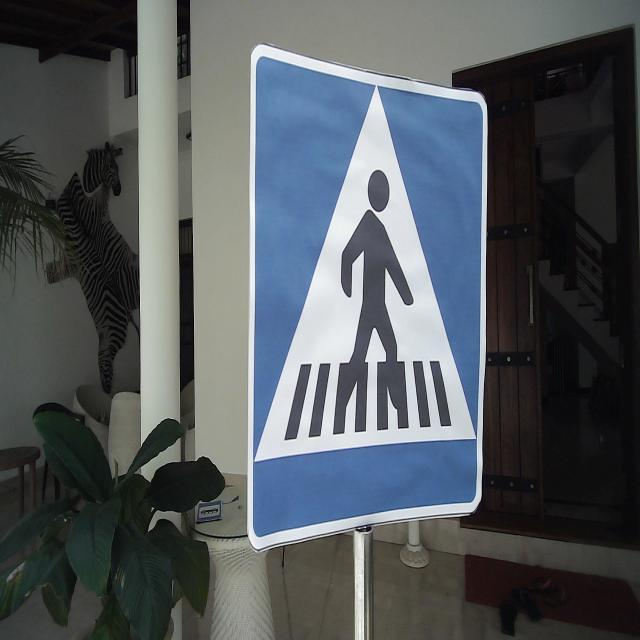crosswalk_sign: (245, 40, 490, 555)
